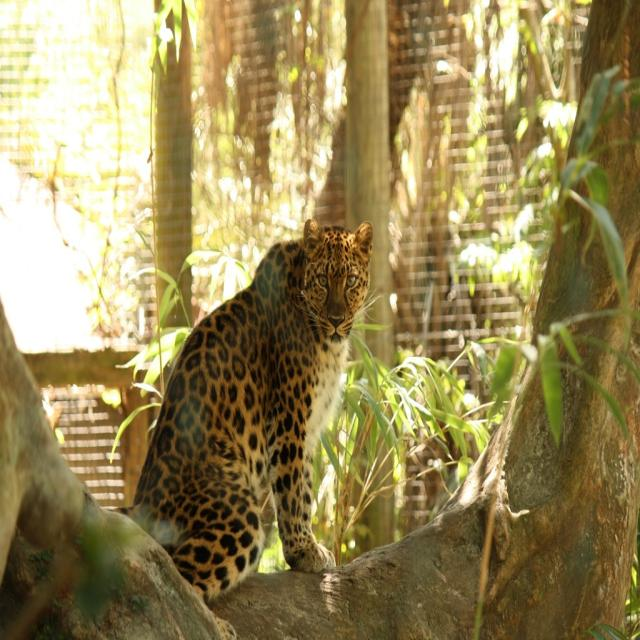Cheetah: (119, 199, 378, 601)
